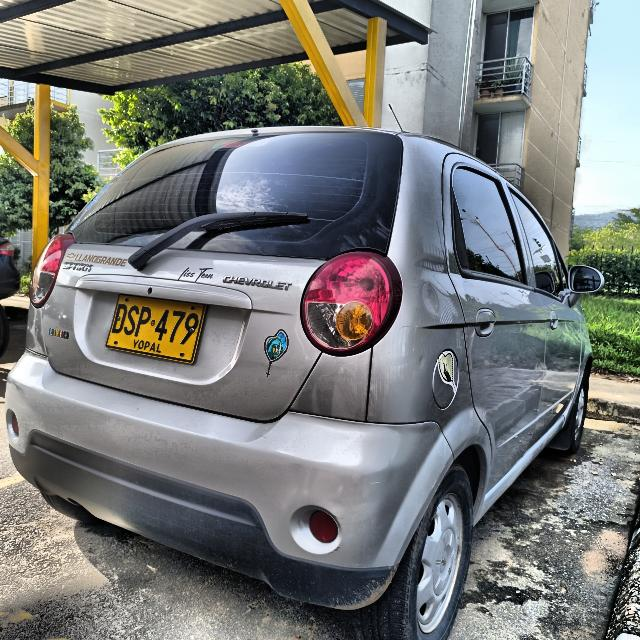plate: (106, 294, 206, 363)
